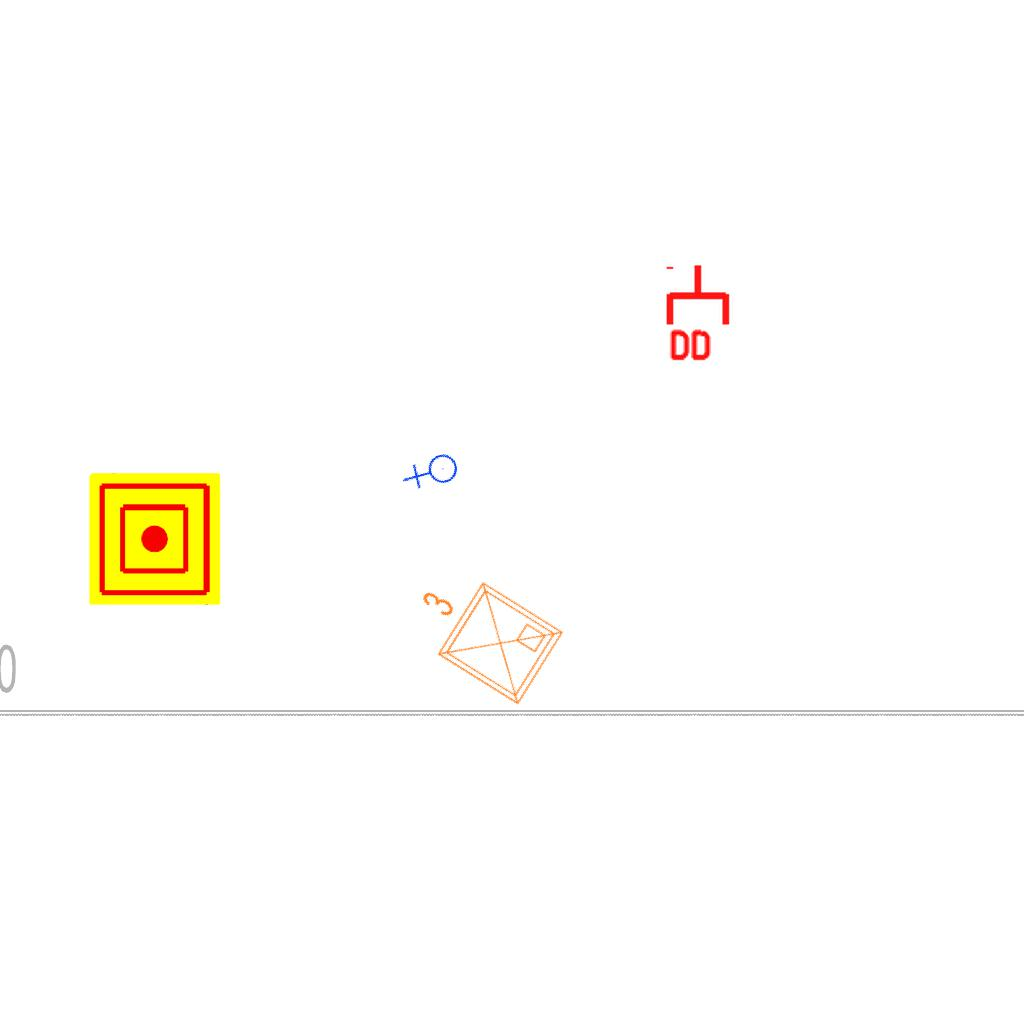Datenanschluss_zweifach: (665, 262, 734, 365)
Einbaudownlights_LED_Konferenzraeume: (390, 550, 574, 718)
Elektroanschluss_allgemein_230V_Geraeteanschlussdose_230V: (400, 441, 467, 506)
NAM-Nichtautomatischer_Melder: (89, 473, 221, 605)
